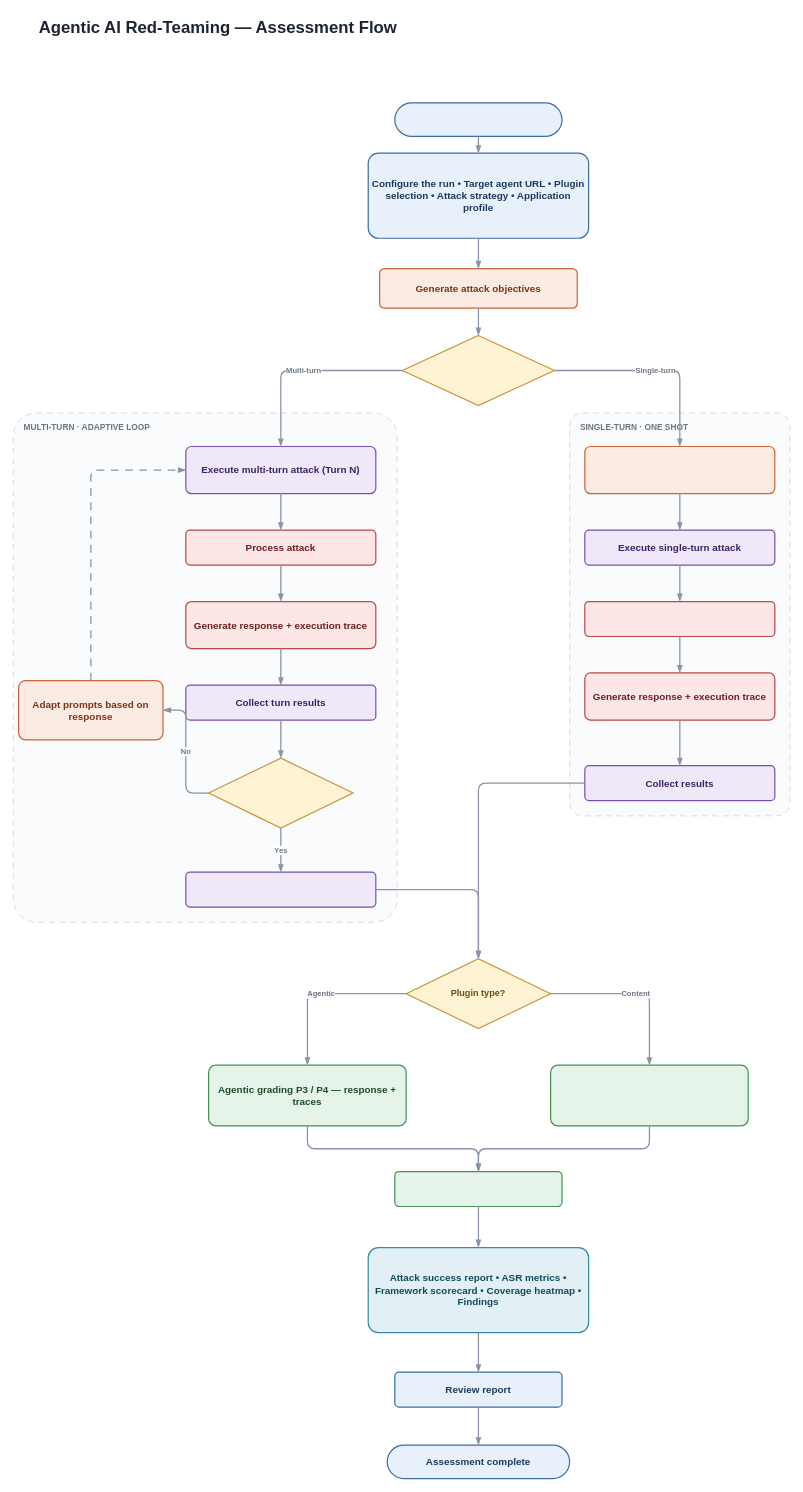
Some shapes in this 803 by 1492 pixel diagram are drawn without their labels. The shapes that lost their labels are listed below. From the top down, each one's centre as x and y in pixels, then its label:
At [478,119]: "Start assessment".
At [478,370]: "Route by strategy".
At [679,470]: "Craft attack prompts (single-turn)".
At [679,619]: "Respond to prompt".
At [280,792]: "Goal achieved?".
At [280,889]: "Aggregate all turns".
At [649,1095]: "Content grading P1 / P2 — response only".
At [478,1189]: "Generate verdict".
